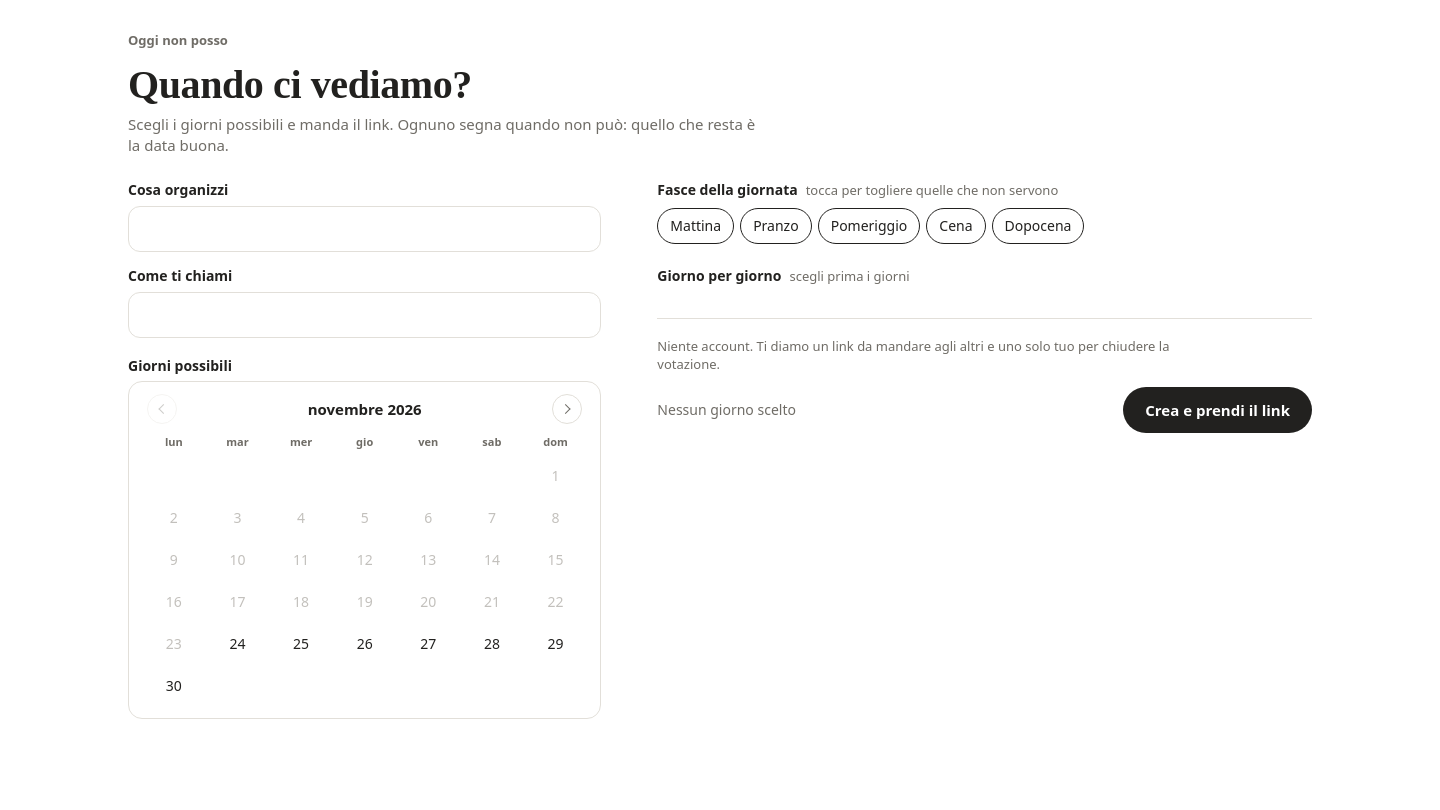
Test case: what can go wrong › says how long to wait when the server says so
Type "Rimpatriata di dicembre" into the field labelled "Cosa organizzi" at (365,229), box [128,206,601,252]
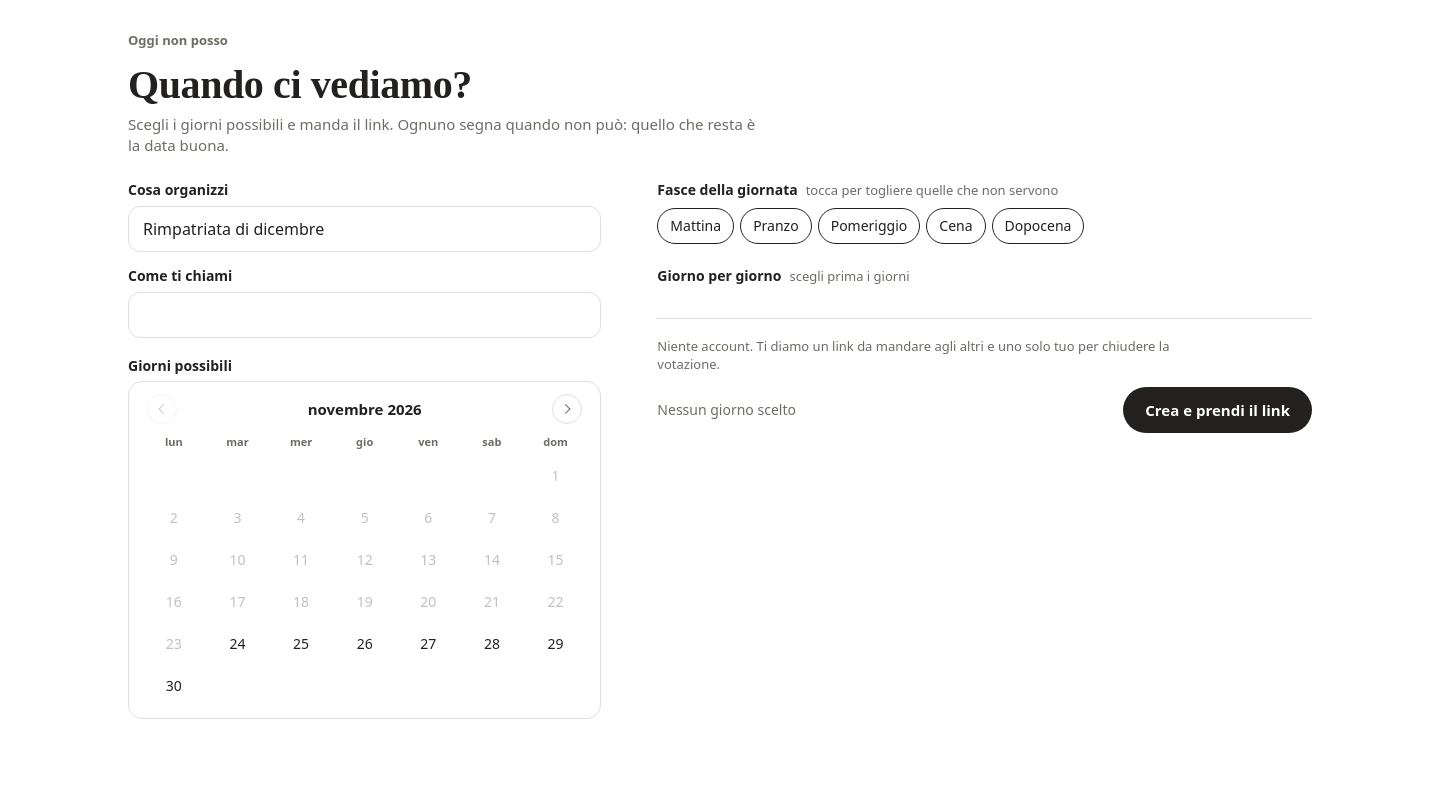
Type "Giulia" into the field labelled "Come ti chiami" at (365,315), box [128,292,601,338]
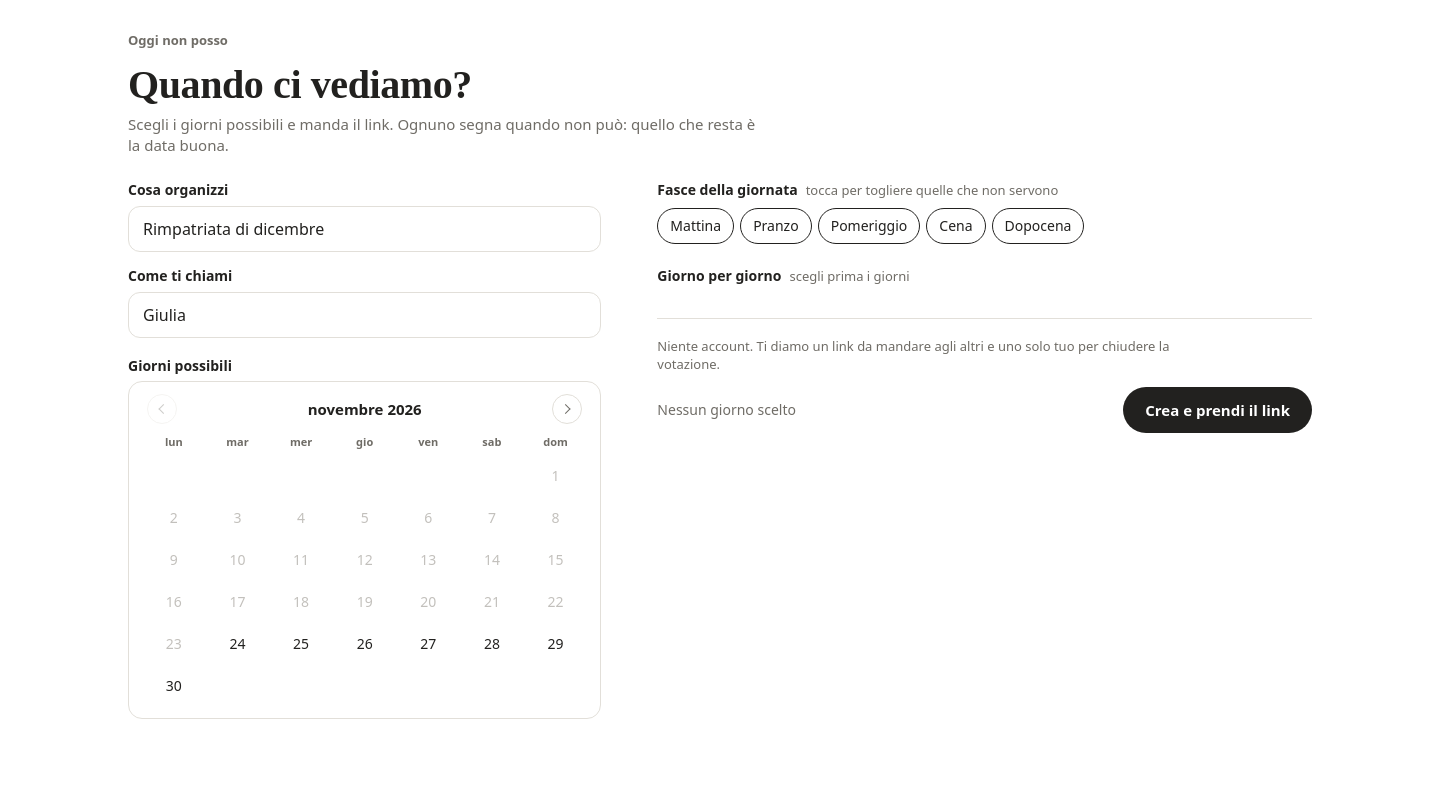
Click the button named "sabato 28 novembre 2026" at (492,644), box [472,624,512,664]
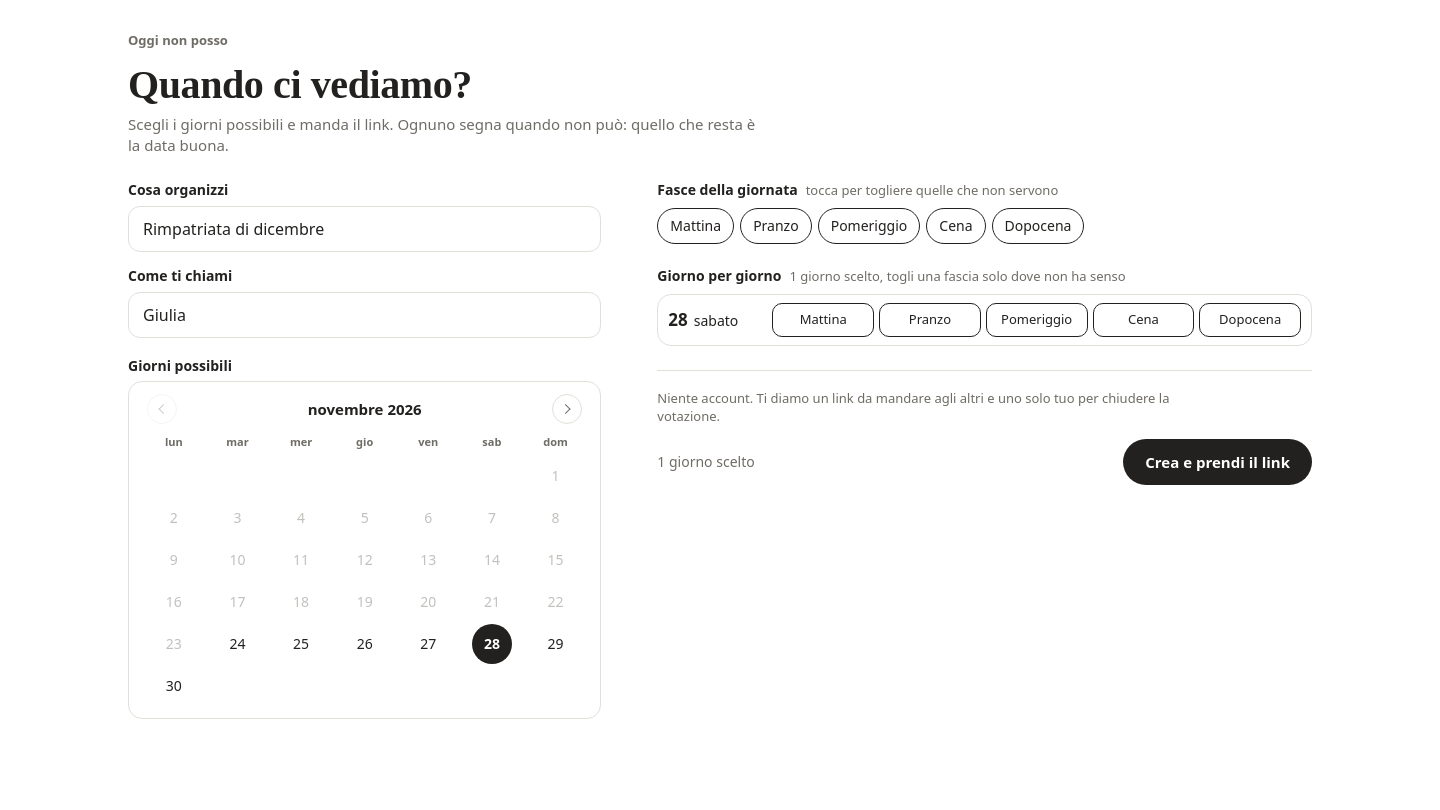
Click the button "Crea e prendi il link" at (1218,462), box [1123,439,1312,485]
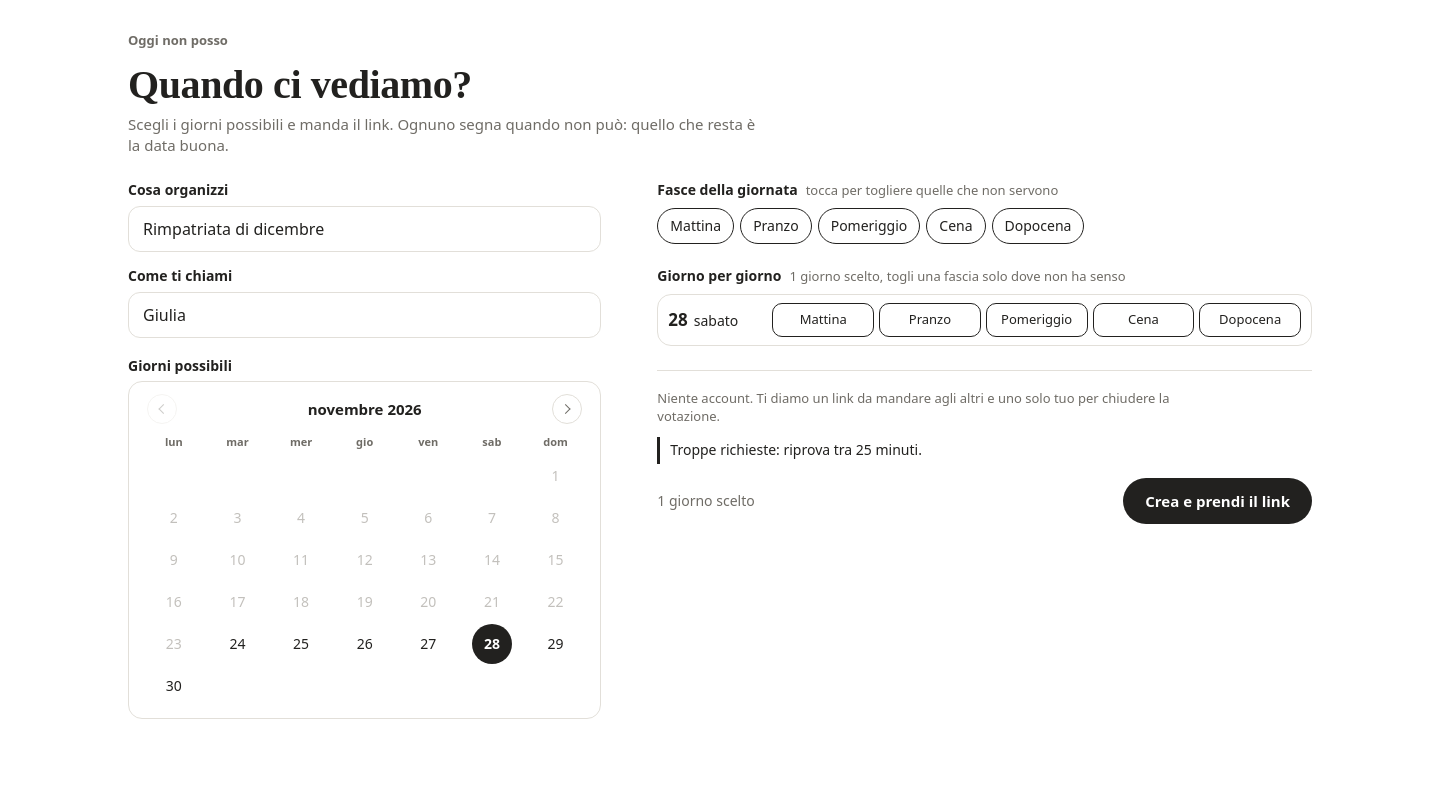
Now the text "Troppe richieste: riprova tra 25 minuti." is shown, box [657,437,1312,464]
